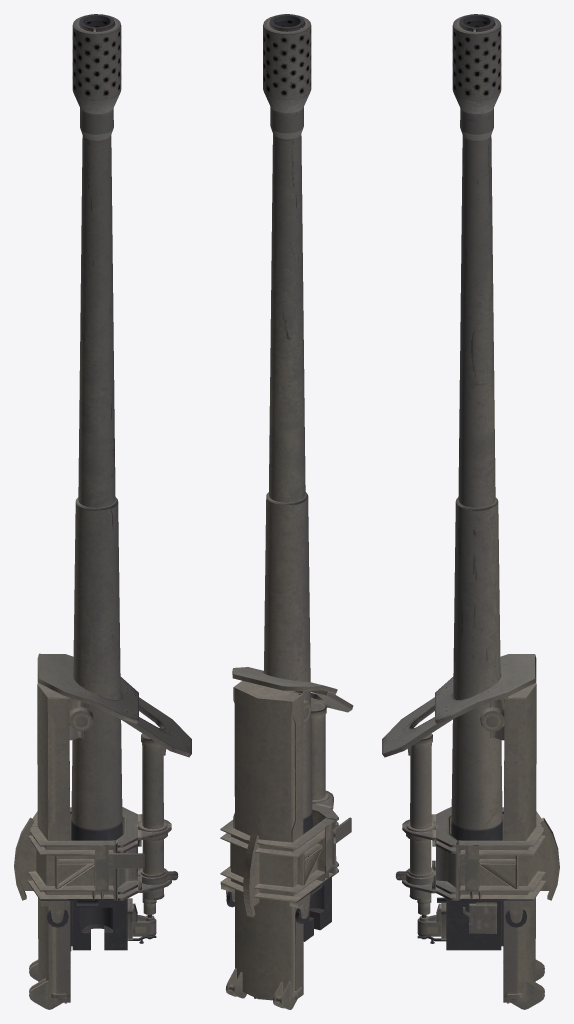
The model's file is Gun_01.glb.
The picture shows the model from 3 angles, left to right: view 1: azimuth 90°, elevation 25°; view 2: azimuth 150°, elevation 25°; view 3: azimuth 270°, elevation 25°; orthographic projection.
Visible parts, largest first — view 1: set_0_group_0; view 2: set_0_group_0; view 3: set_0_group_0.
Boxes of the visible parts, <box> form: set_0_group_0: <box>14,14,191,1009</box>; set_0_group_0: <box>220,14,353,1009</box>; set_0_group_0: <box>382,14,559,1009</box>.
Size of the model in its own units: 0.8381 by 9.63 by 1.59.
Materials: 1 (1 with a texture image).
